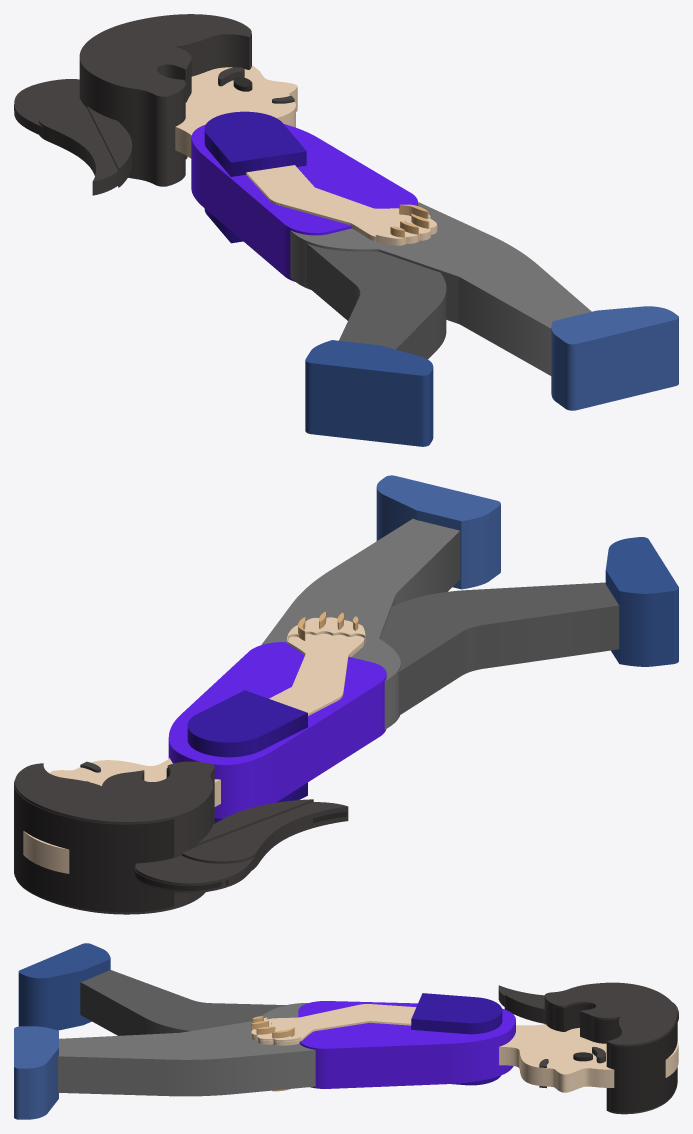
Rendered from emoji_u1f6b6_1f3fb_200d_2640_200d_27a1.glb.
The picture shows the model from 3 angles, top to bottom: view 1: azimuth 30°, elevation 25°; view 2: azimuth 150°, elevation 25°; view 3: azimuth 270°, elevation 25°; orthographic projection. The views are drawn at different scales.
Visible parts, largest first — view 1: emoji_u1f6b6_1f3fb_200d_2640_200d_27a1; view 2: emoji_u1f6b6_1f3fb_200d_2640_200d_27a1; view 3: emoji_u1f6b6_1f3fb_200d_2640_200d_27a1.
Boxes of the visible parts, x1=… form: emoji_u1f6b6_1f3fb_200d_2640_200d_27a1: x1=14, y1=14, x2=678, y2=446; emoji_u1f6b6_1f3fb_200d_2640_200d_27a1: x1=14, y1=475, x2=678, y2=914; emoji_u1f6b6_1f3fb_200d_2640_200d_27a1: x1=14, y1=943, x2=678, y2=1119.
Bounding box in the file's own units: 0.0145 × 0.0038 × 0.033.
